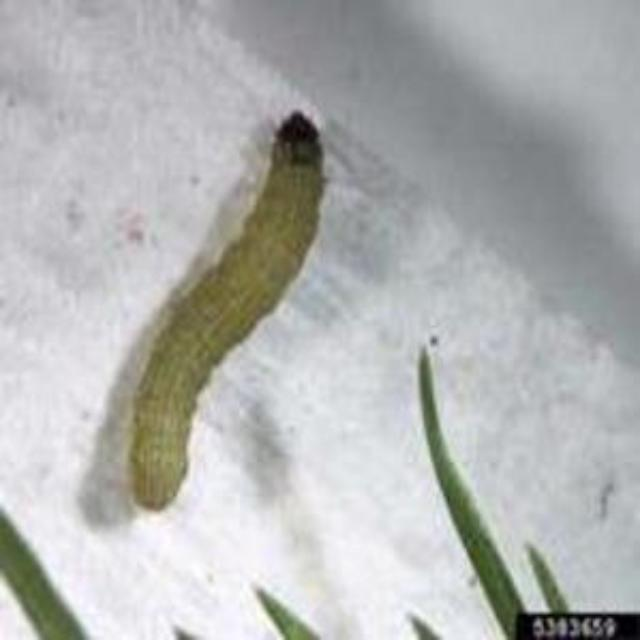Beet armyworm: (89, 88, 378, 518)
